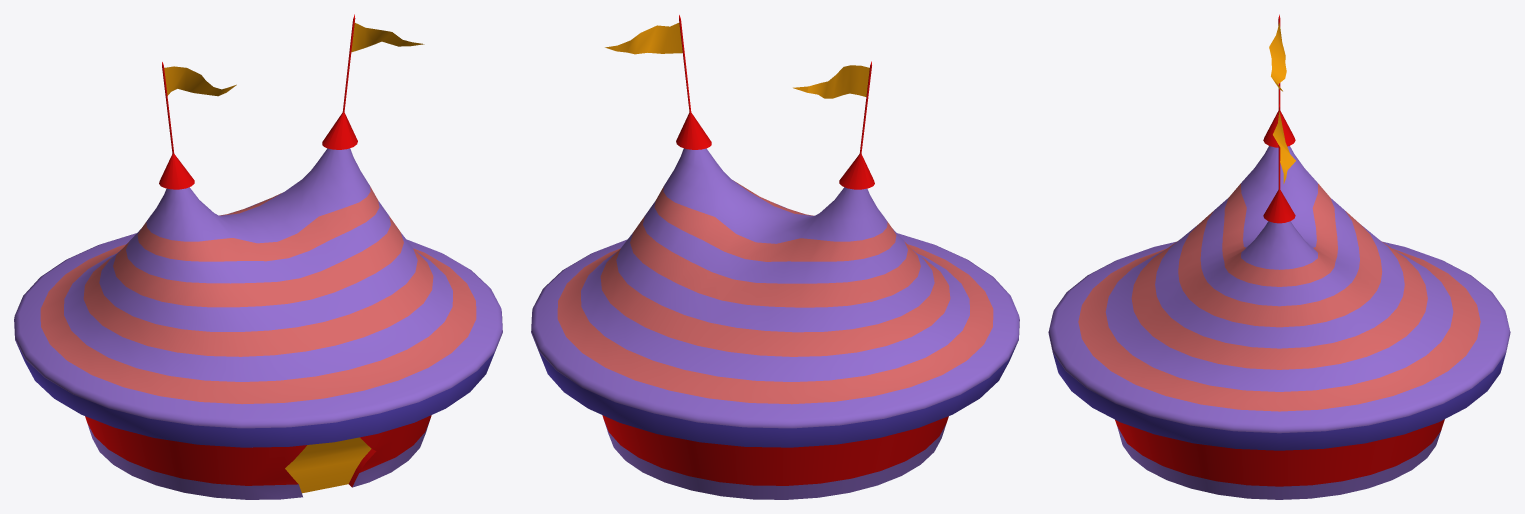
File: BigTent.fbx
3 renders of one model, left to right at view 1: azimuth 30°, elevation 25°; view 2: azimuth 150°, elevation 25°; view 3: azimuth 270°, elevation 25°, orthographic. The views are drawn at different scales.
Parts seen in each view (by area): view 1: BigTent; view 2: BigTent; view 3: BigTent.
Boxes of the visible parts, x1,y1,x2,y2 form: BigTent: (14,14,502,499); BigTent: (531,15,1019,499); BigTent: (1048,14,1510,499).
Size of the model in its own units: 35.39 by 31.06 by 34.81.
